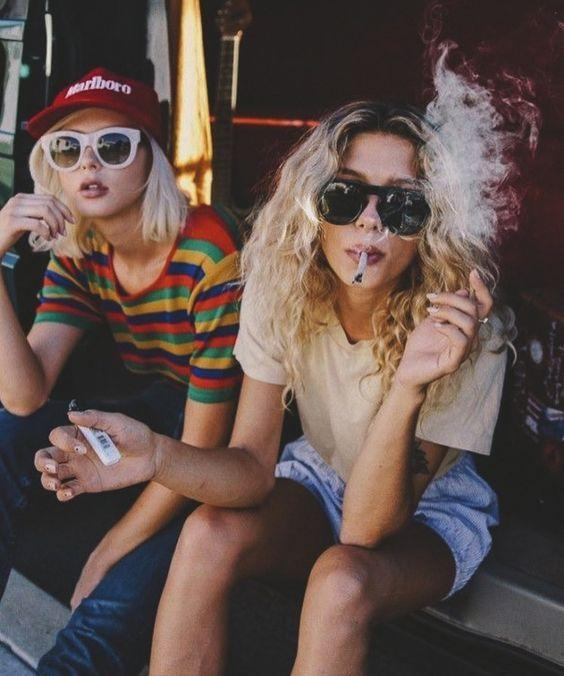cigarette: (352, 252, 371, 283)
